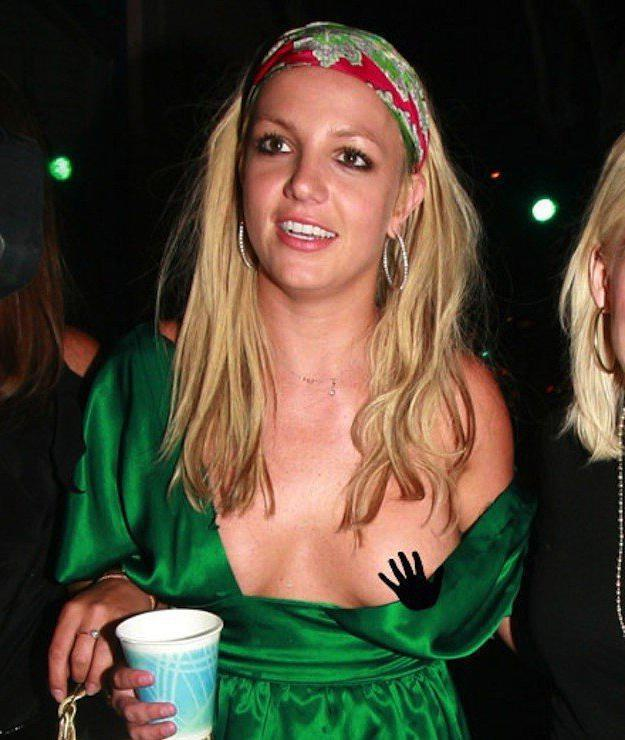Drunk: (249, 70, 390, 285)
